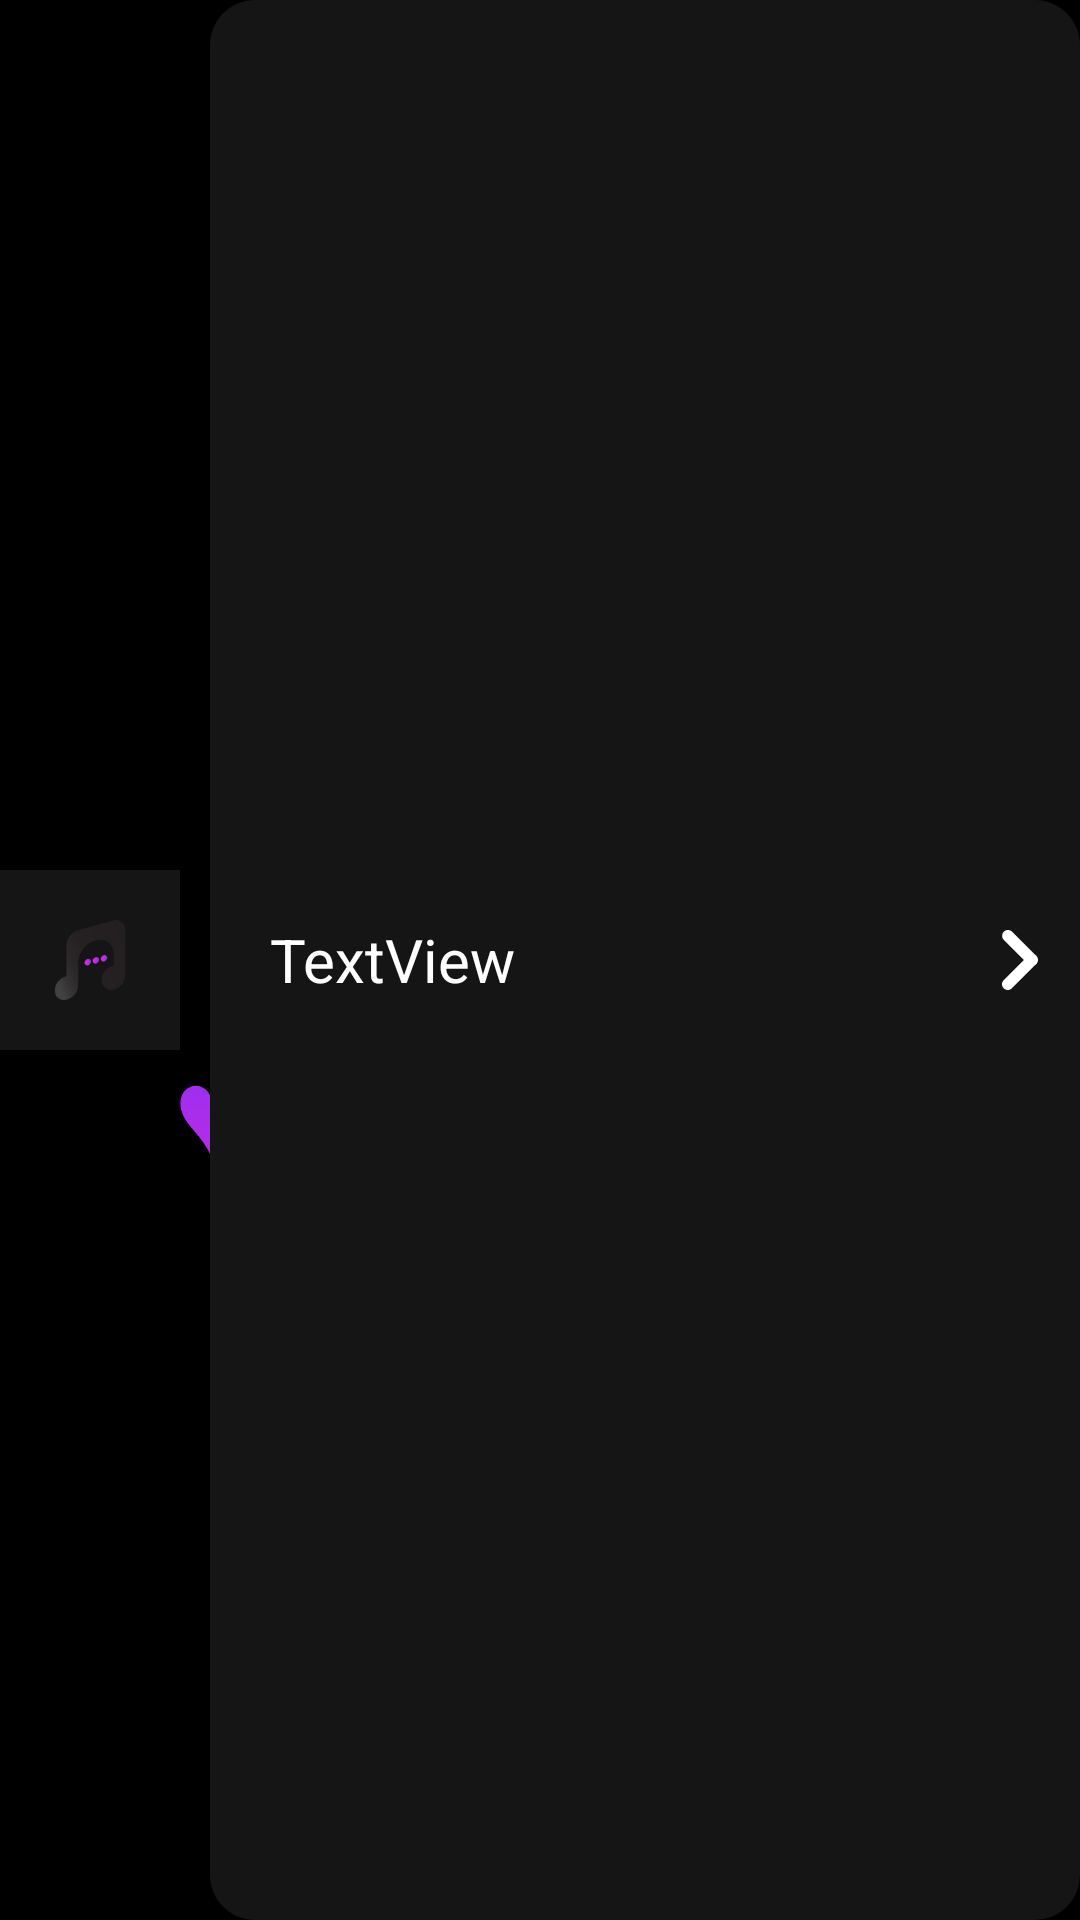

Icon click points for this 1080 x 1920 phone screenshot, format (x,y):
next playlist fragment arrow: (1020,960)
